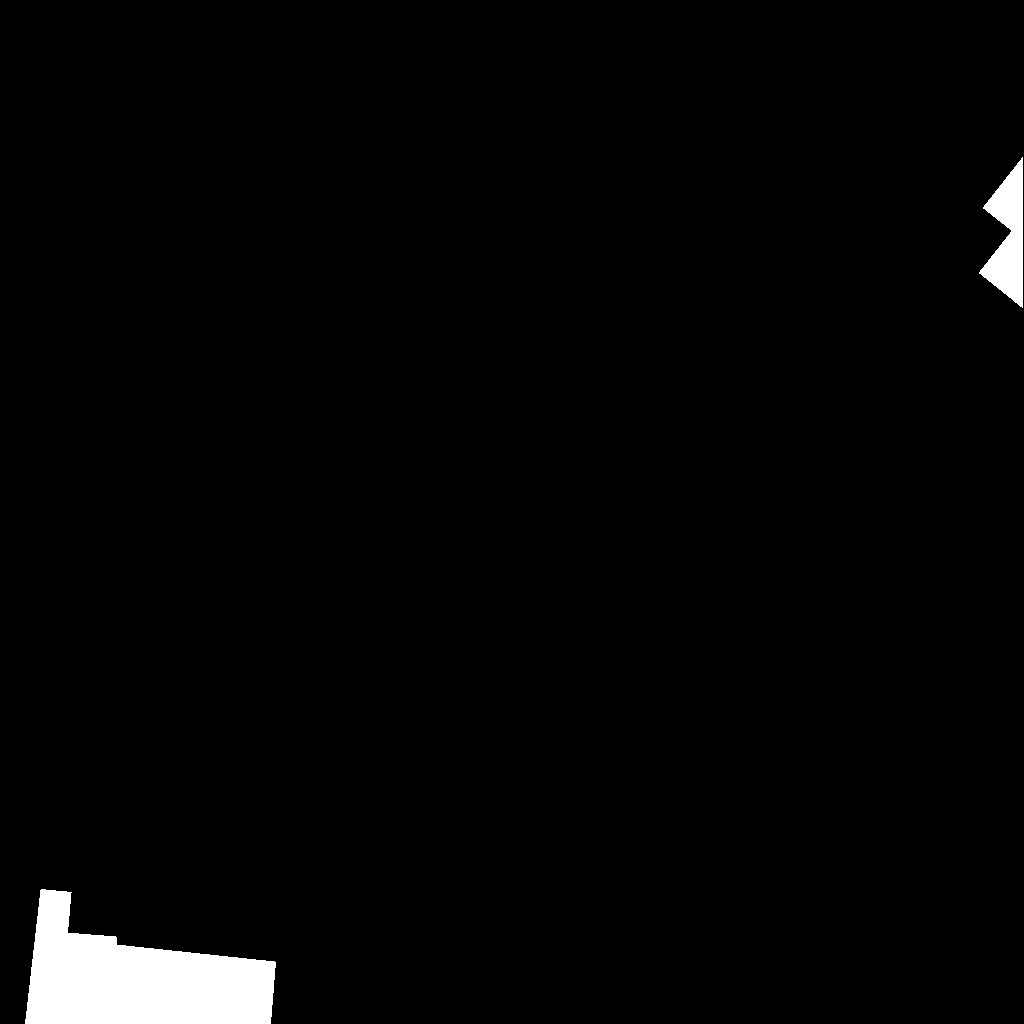building: (25, 889, 277, 1024), (979, 157, 1024, 309)
